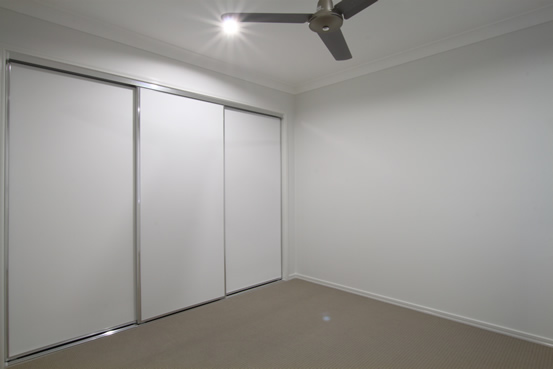ceiling fan: (206, 1, 397, 65)
